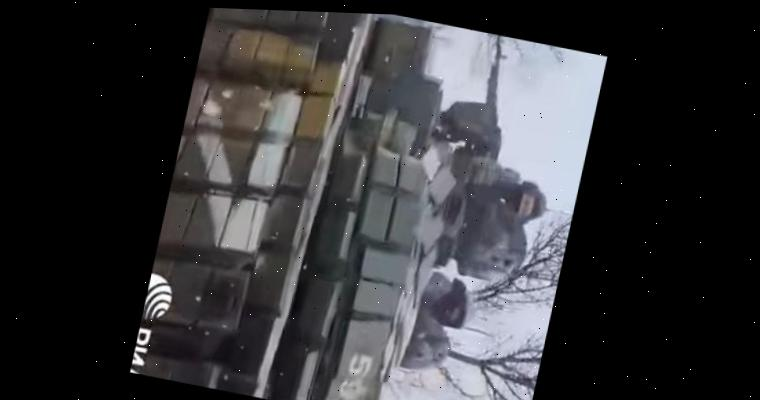tank: (127, 6, 579, 400)
